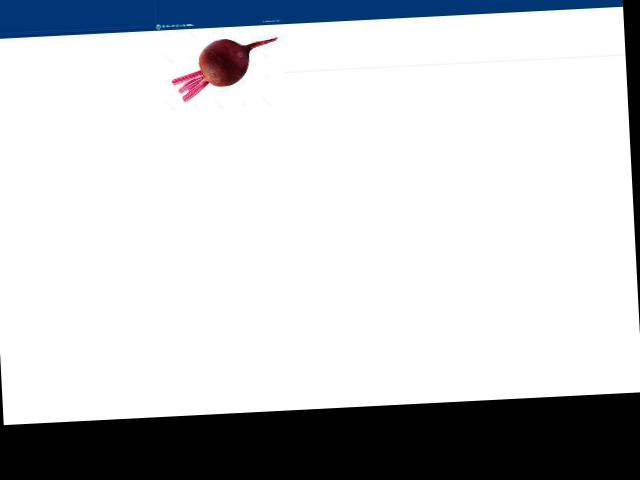beet: (171, 37, 279, 101)
